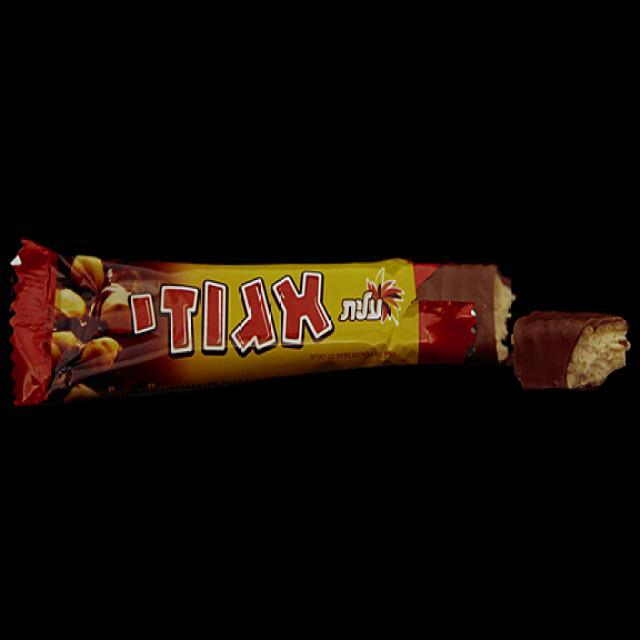Chocolate bar: (15, 237, 474, 397)
Chocolate bar packaged: (514, 310, 638, 392)
